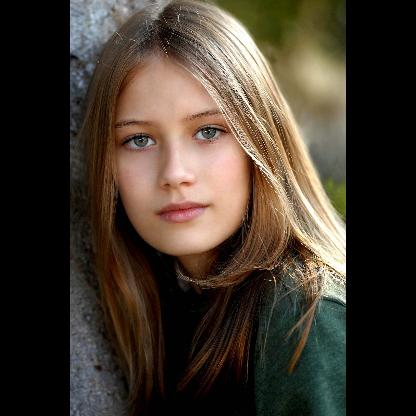Female: (112, 56, 250, 254)
